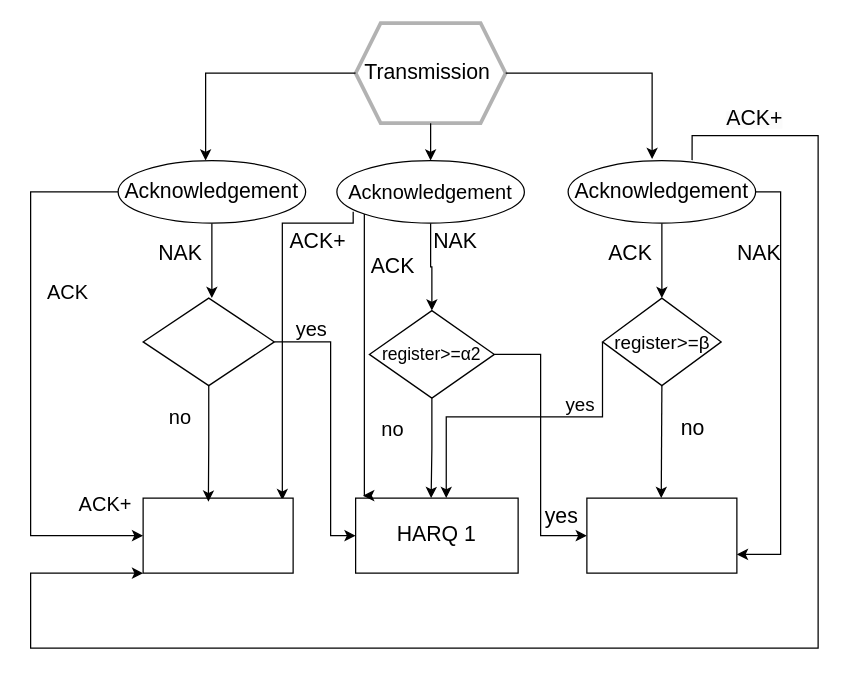
Some shapes in this 850 by 680 pixel diagram are drawn without their labels. The shapes that lost their labels are listed below. From the top down, each one's centre as x and y in pixels, then its label:
At (208,341): "register>=α1".
At (217,535): "ARQ".
At (661,535): "HARQ 2".
